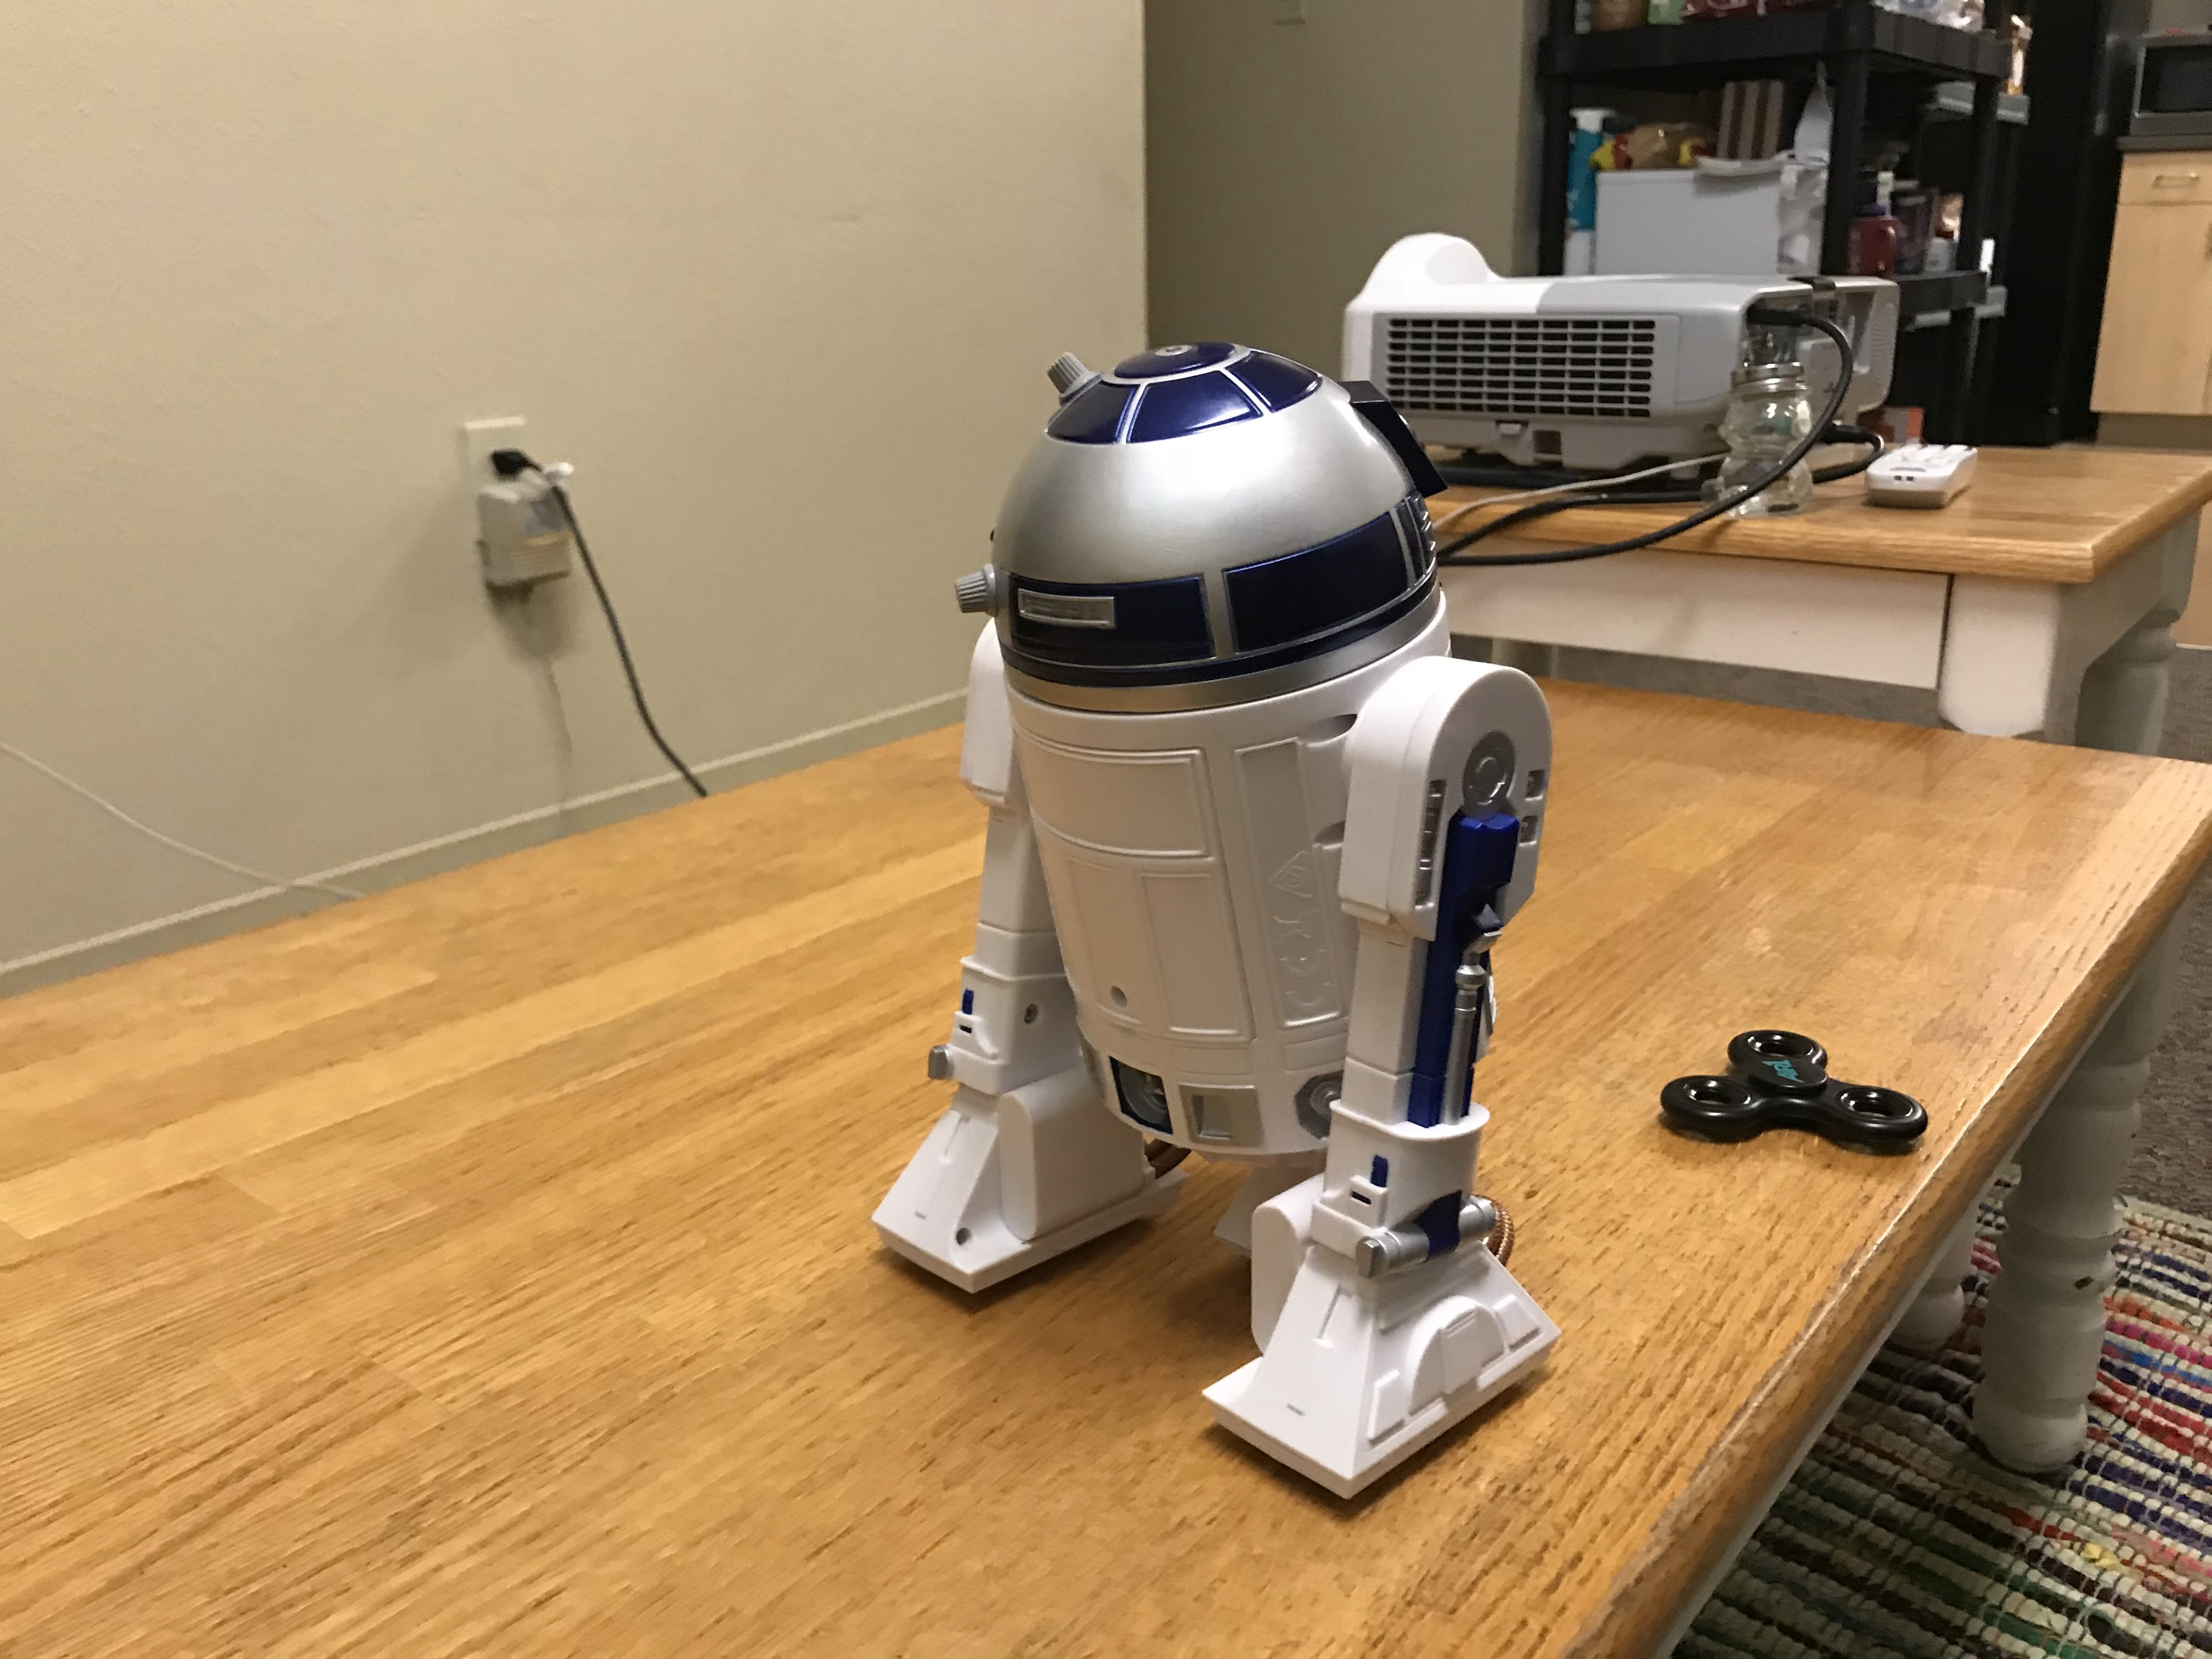r2d2: (874, 340, 1564, 1497)
